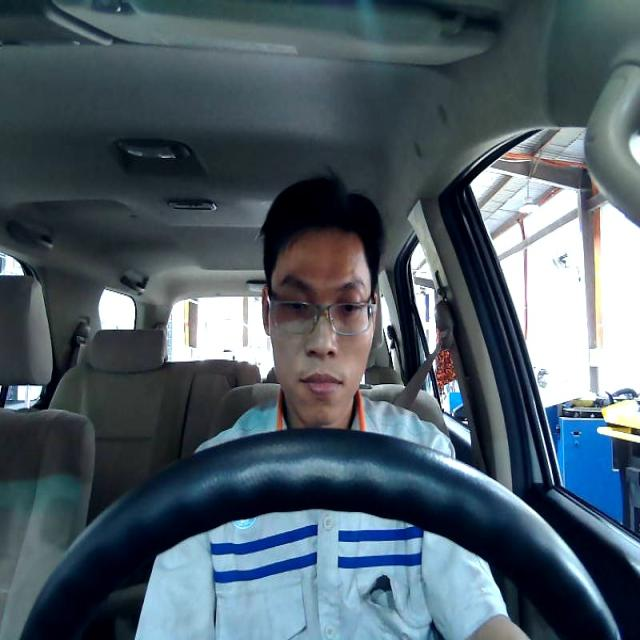focused: (260, 227, 378, 425)
